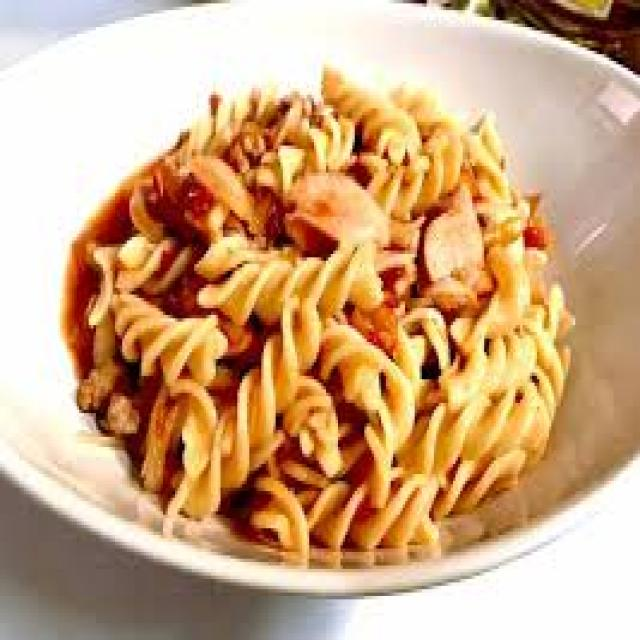pasta: (121, 81, 574, 531)
